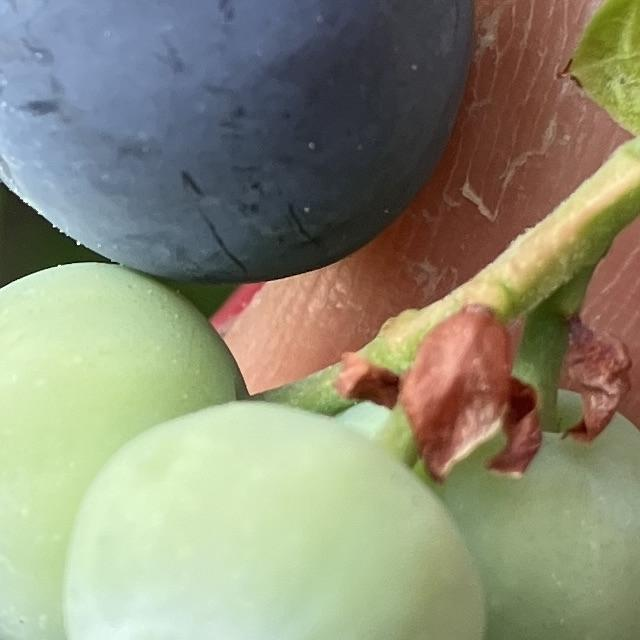Blueberries: (0, 0, 477, 285), (0, 392, 485, 640)
